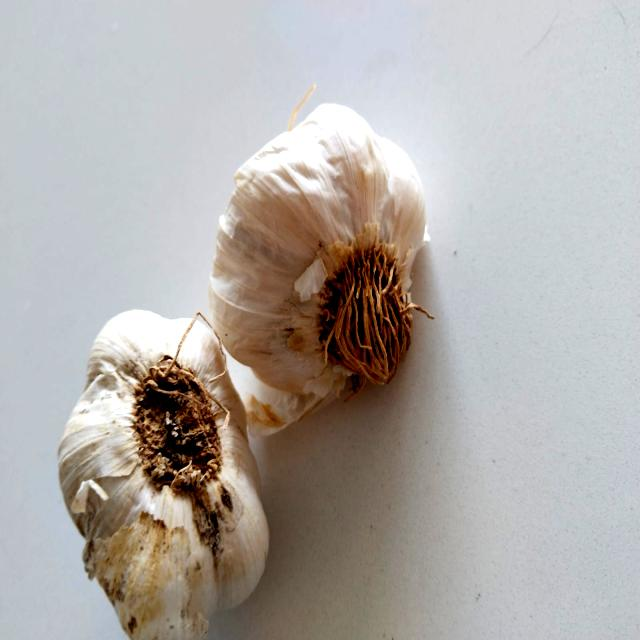garlic: (22, 275, 292, 640), (195, 106, 472, 417)
